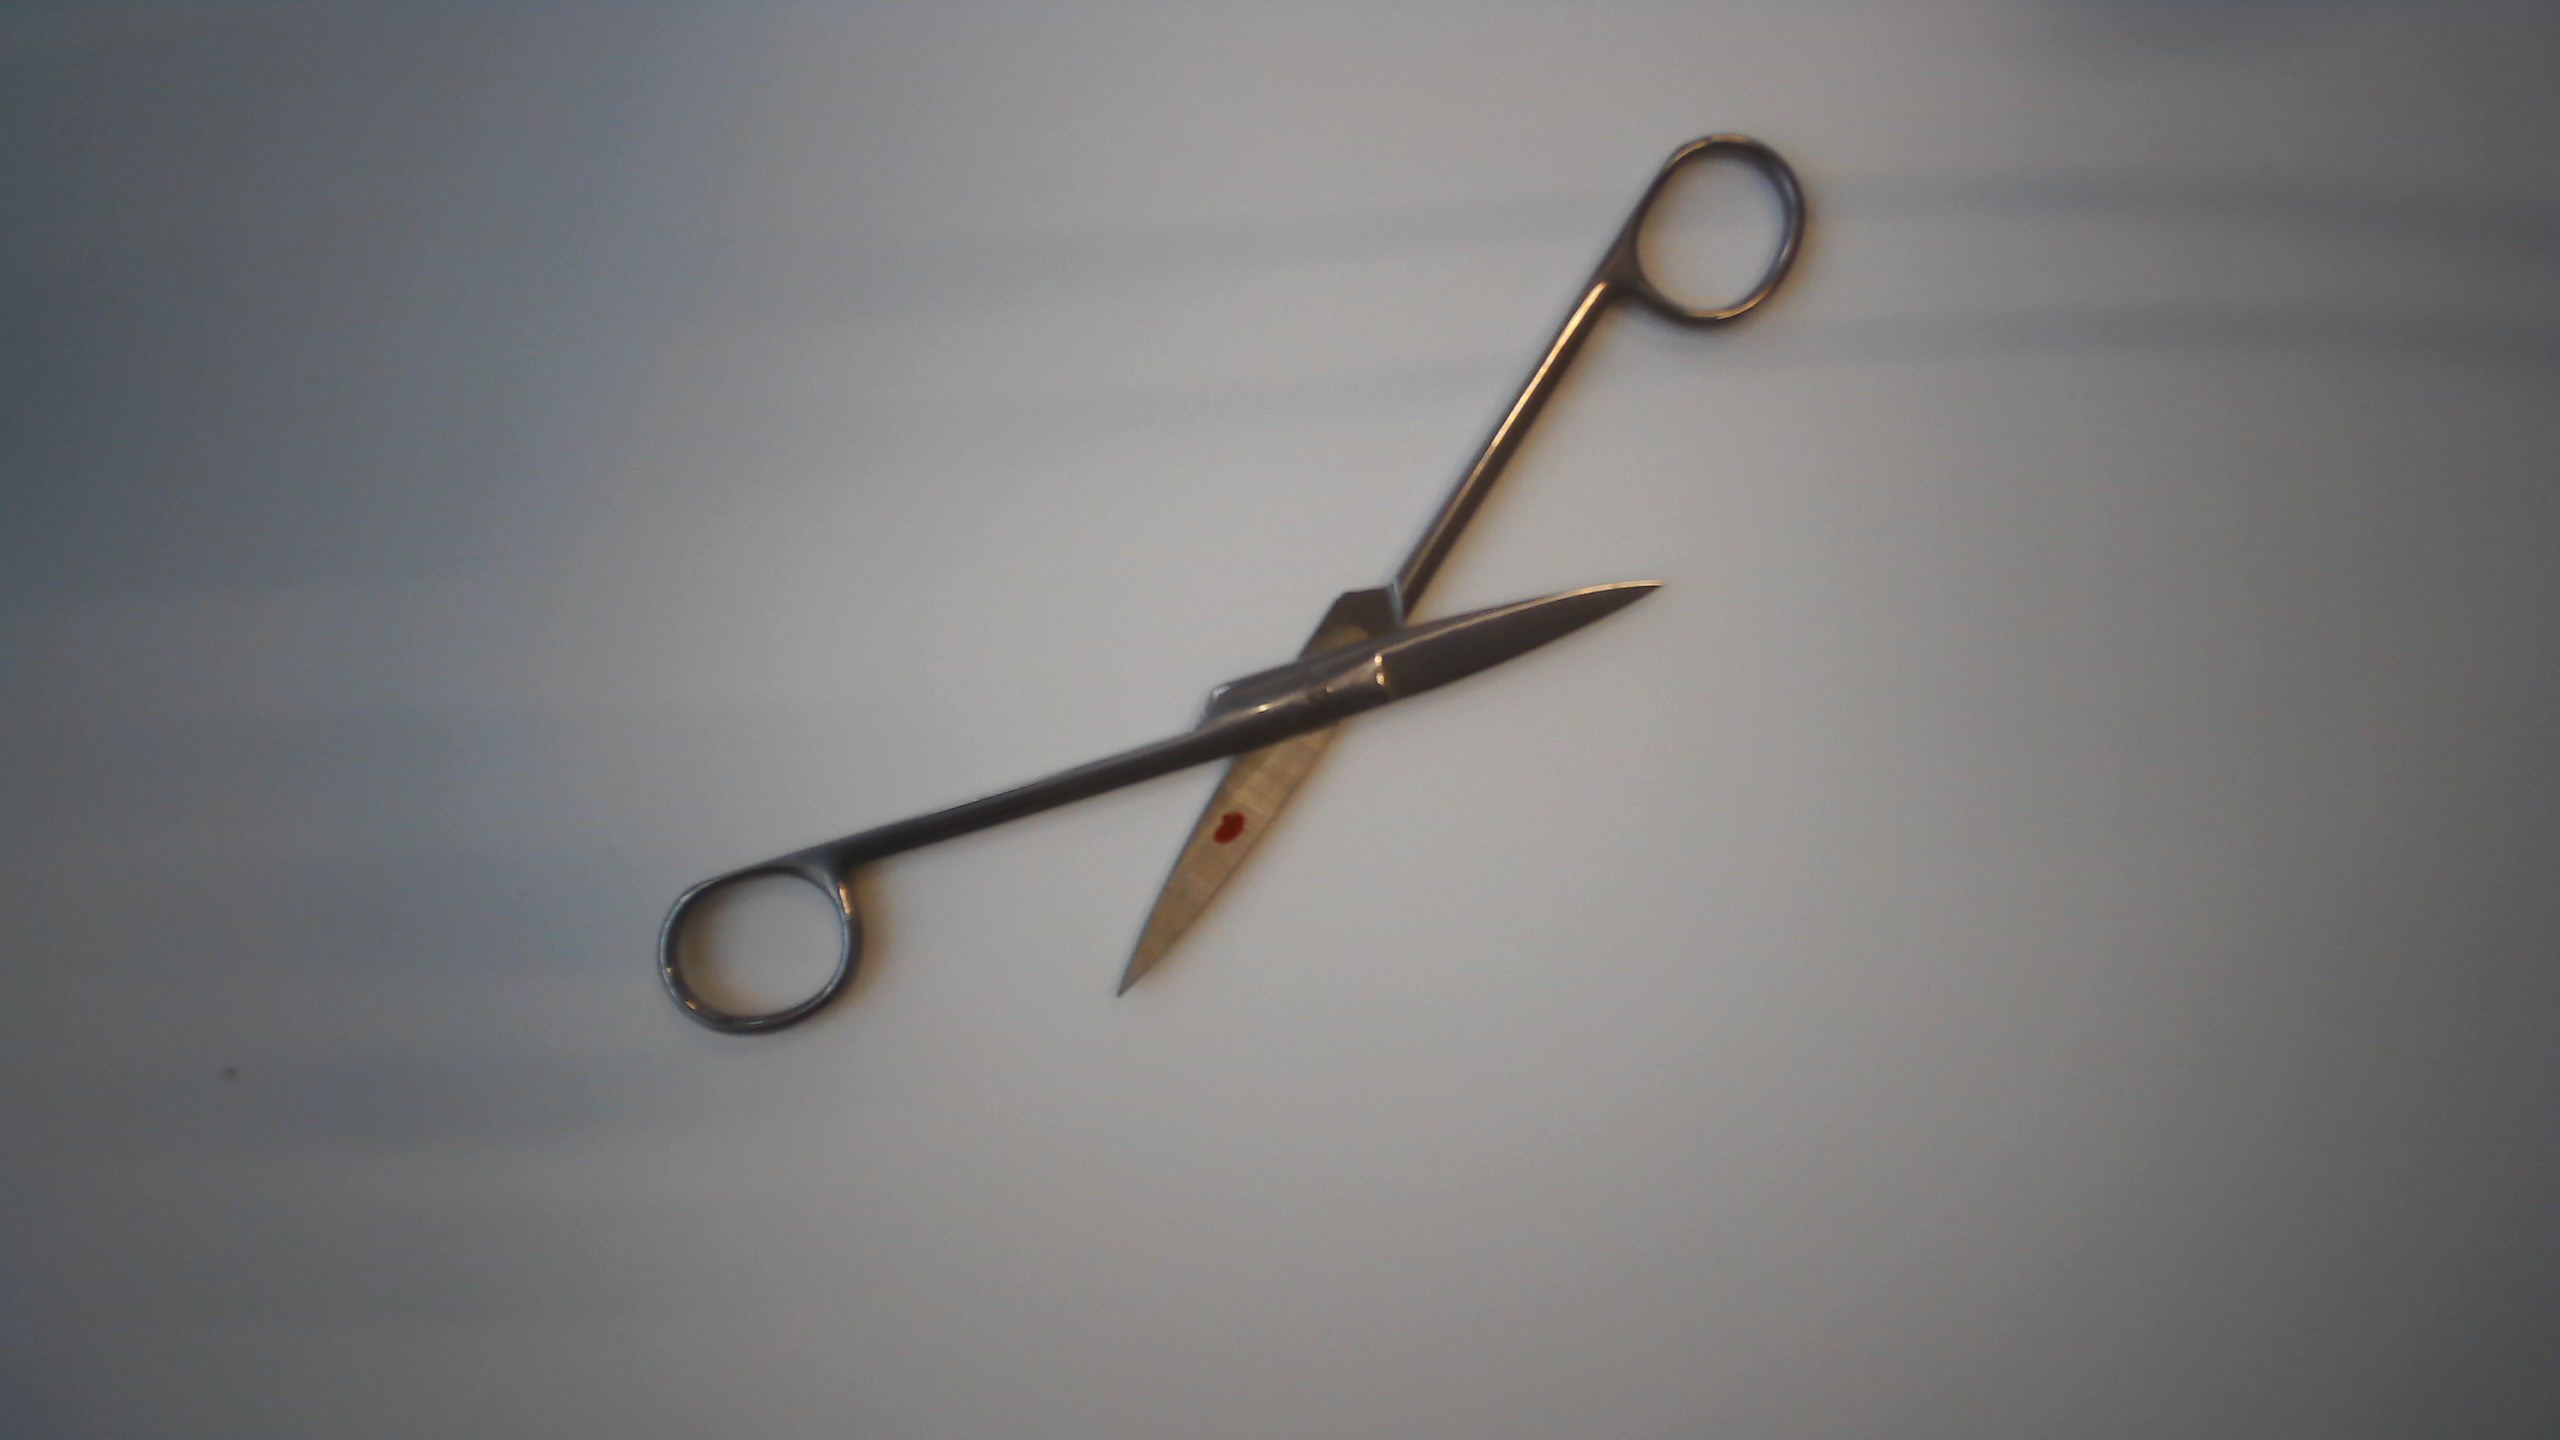Stain: (1203, 807, 1248, 853)
